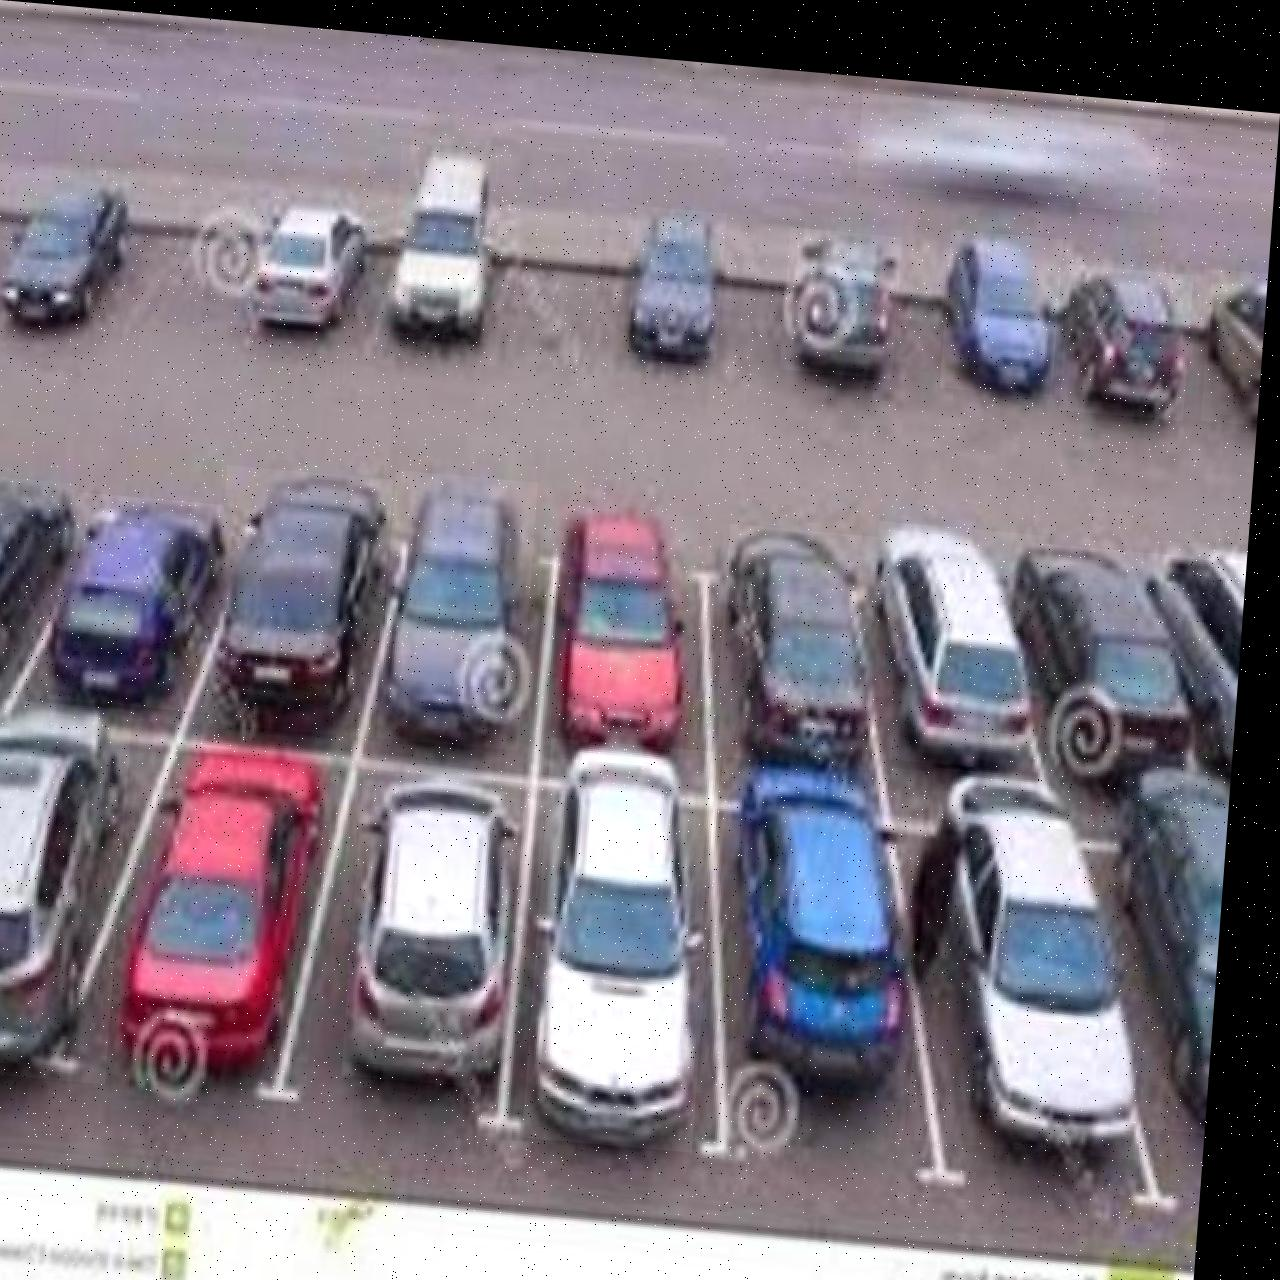car: (922, 749, 1175, 1137), (539, 726, 733, 1138), (129, 731, 342, 1105), (735, 740, 938, 1081), (358, 763, 539, 1078), (0, 694, 143, 1081), (1008, 522, 1216, 767), (219, 461, 400, 730), (1112, 738, 1241, 1110), (872, 504, 1056, 751), (387, 462, 545, 740), (724, 510, 896, 753), (57, 489, 238, 709), (558, 493, 708, 743), (858, 76, 1165, 191), (1150, 517, 1254, 754), (1, 171, 138, 331), (393, 137, 502, 334), (1063, 244, 1197, 399), (945, 211, 1065, 377), (0, 475, 87, 694), (784, 212, 905, 362), (251, 192, 376, 331), (631, 193, 729, 349), (1206, 246, 1271, 402)
